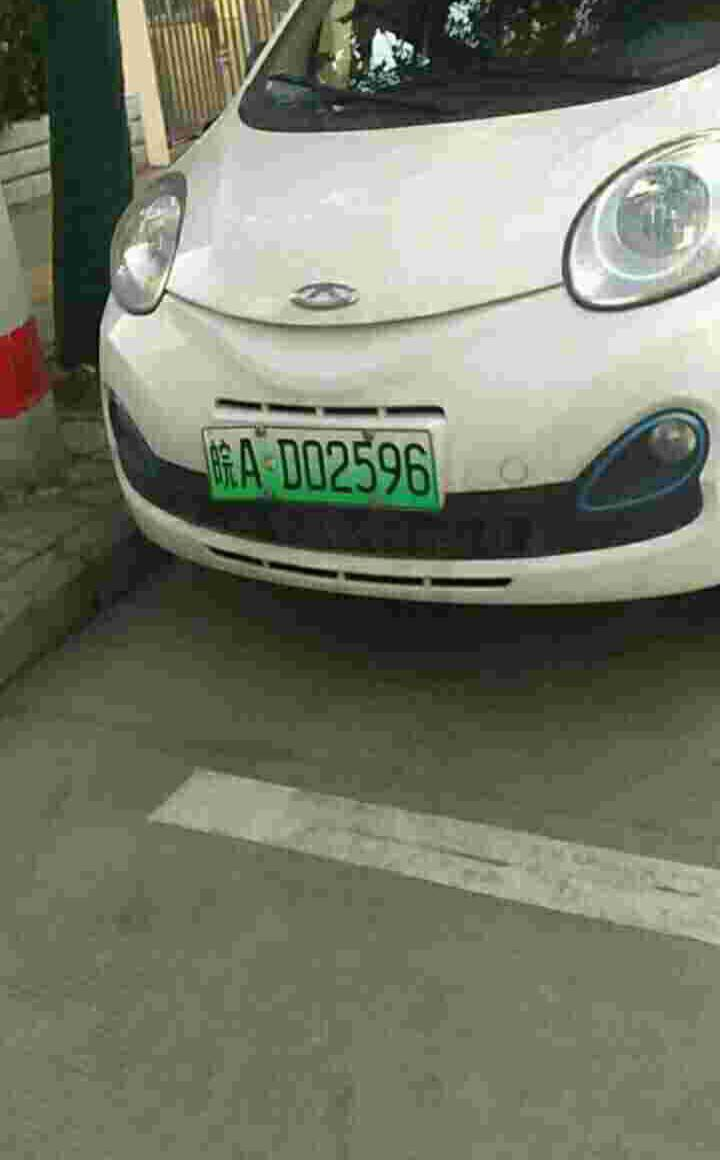car: (199, 423, 451, 520)
